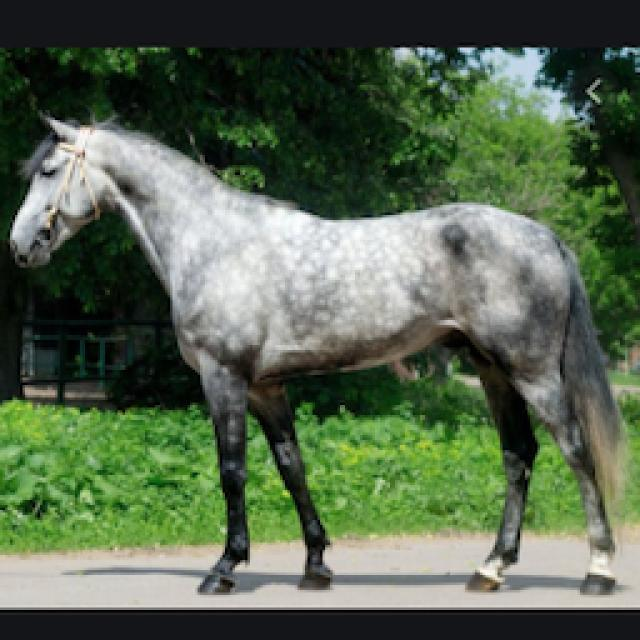Horse: (2, 102, 638, 598)
